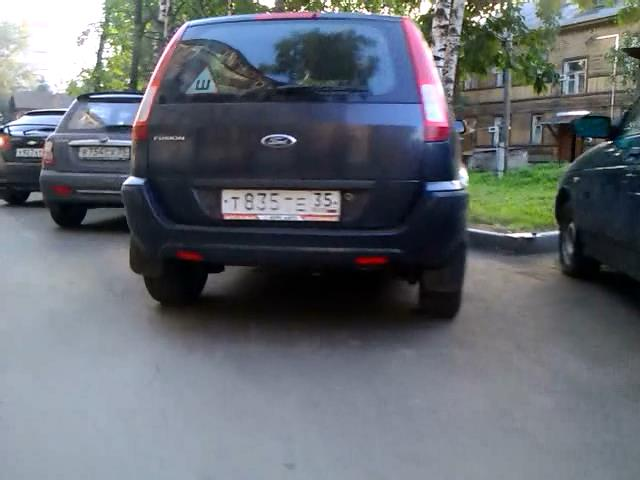car license plate: (220, 187, 344, 224), (77, 143, 130, 162), (14, 147, 44, 158)
